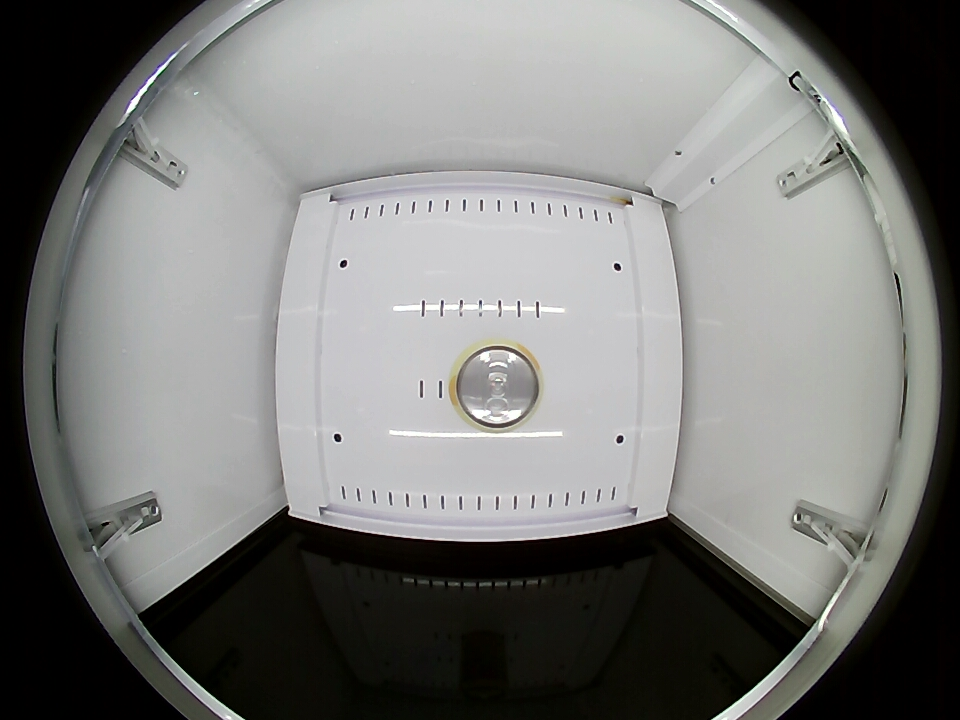mangguoxiaolao: (447, 341, 544, 431)
